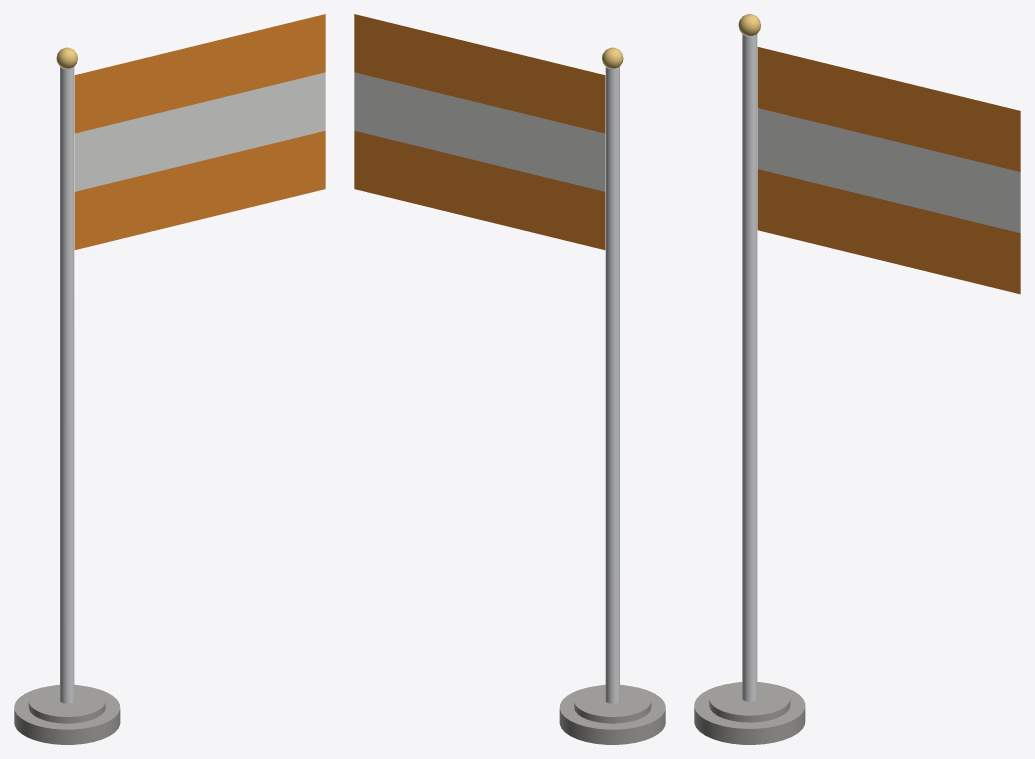
The model's file is flag.glb.
The picture shows the model from 3 angles, left to right: view 1: azimuth 30°, elevation 25°; view 2: azimuth 150°, elevation 25°; view 3: azimuth 330°, elevation 25°; orthographic projection. The views are drawn at different scales.
Parts seen in each view (by area): view 1: drapeau, mat, socle_beton; view 2: drapeau, mat, socle_beton; view 3: drapeau, mat, socle_beton.
Part boxes in pixels (x1,y1,x2,y2): drapeau: [74, 14, 325, 249]; mat: [56, 47, 77, 703]; socle_beton: [14, 684, 120, 744]; drapeau: [354, 14, 605, 249]; mat: [602, 47, 623, 703]; socle_beton: [559, 684, 665, 744]; drapeau: [757, 47, 1020, 294]; mat: [738, 14, 760, 701]; socle_beton: [694, 682, 805, 744].
Size of what is drawn, in the model's own units: 1.46 by 3.08 by 0.44.
